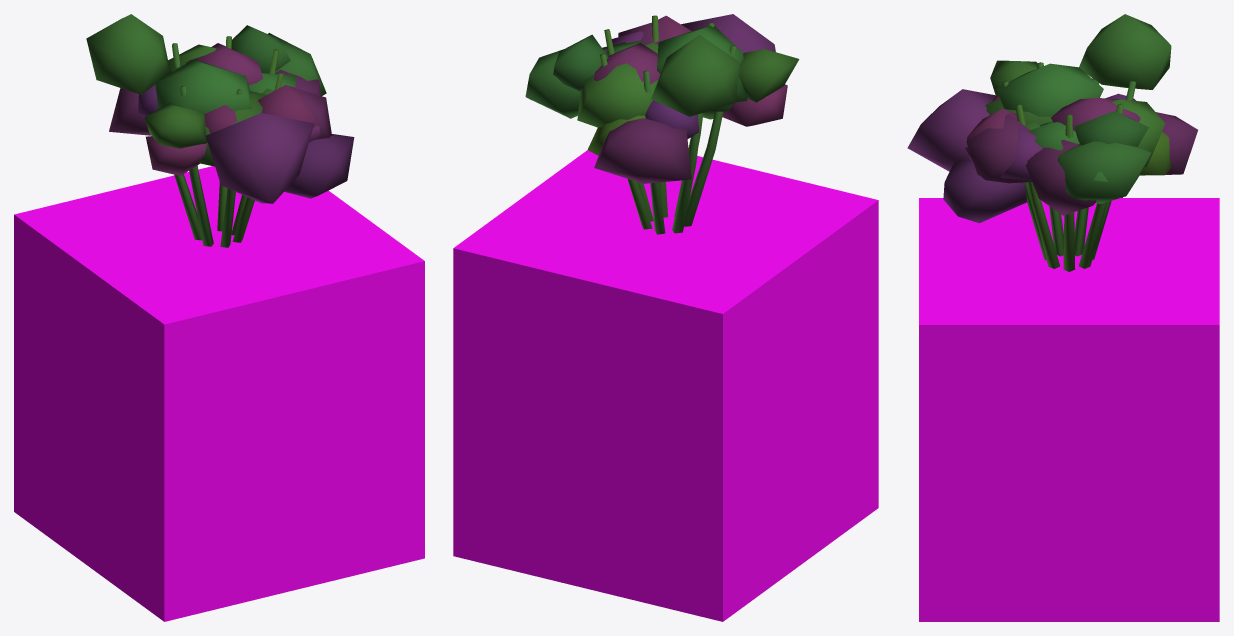
Rendered from PRP_Tulsi_Pot_A.glb.
3 views of the same model, side by side, from view 1: azimuth 30°, elevation 25°; view 2: azimuth 150°, elevation 25°; view 3: azimuth 270°, elevation 25° (orthographic). The views are drawn at different scales.
Visible parts, largest first — view 1: COL_Pot, PRP_Tulsi_Pot_A_Mesh; view 2: COL_Pot, PRP_Tulsi_Pot_A_Mesh; view 3: COL_Pot, PRP_Tulsi_Pot_A_Mesh.
Boxes of the visible parts, x1,y1,x2,y2 form: COL_Pot: [14, 166, 424, 621]; PRP_Tulsi_Pot_A_Mesh: [86, 14, 354, 247]; COL_Pot: [453, 150, 878, 621]; PRP_Tulsi_Pot_A_Mesh: [525, 14, 799, 234]; COL_Pot: [919, 198, 1219, 621]; PRP_Tulsi_Pot_A_Mesh: [907, 14, 1197, 271].
Size of the model in its own units: 0.55 by 1.04 by 0.5714.
